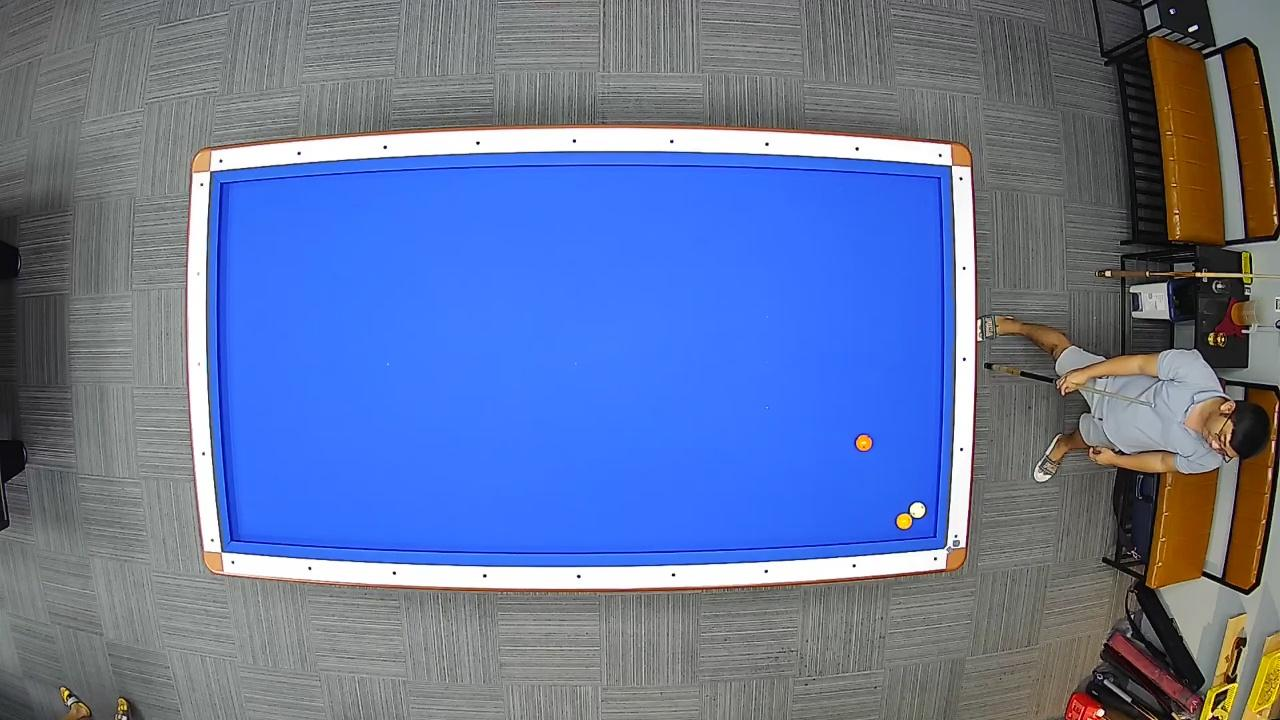Orange: (854, 433, 873, 454)
White: (909, 502, 927, 518)
Yellow: (895, 512, 913, 531)
